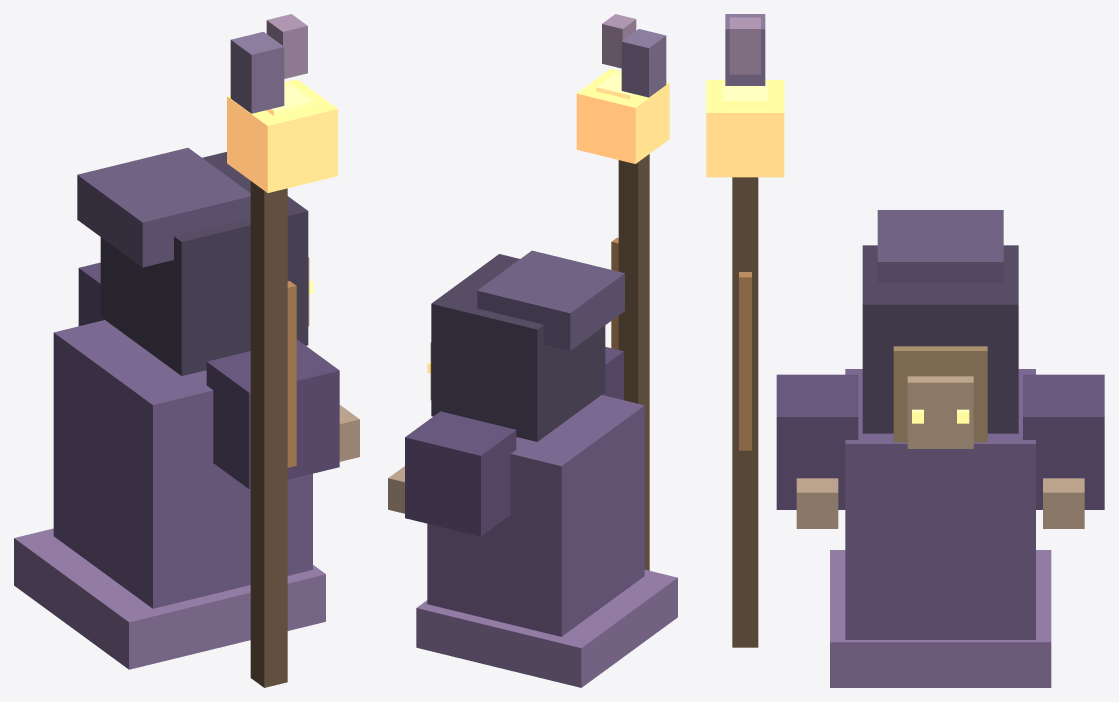
The model's file is hexer.glb.
The picture shows the model from 3 angles, left to right: view 1: azimuth 30°, elevation 25°; view 2: azimuth 150°, elevation 25°; view 3: azimuth 270°, elevation 25°; orthographic projection. The views are drawn at different scales.
Visible parts, largest first — view 1: Robe, Hood, Staff, Robe_Hem, Hood_Top, Sleeves, Ember, Smoke, Staff_Crack, Hands; view 2: Robe, Hood, Robe_Hem, Sleeves, Hood_Top, Staff, Ember, Smoke, Hands, Staff_Crack; view 3: Robe, Sleeves, Hood, Robe_Hem, Staff, Hood_Top, Ember, Hood_Lining, Face, Hands, Smoke, Staff_Crack.
Part boxes in pixels (x1=…): Robe: x1=53, y1=320, x2=312, y2=608; Hood: x1=100, y1=152, x2=308, y2=375; Staff: x1=250, y1=181, x2=287, y2=687; Robe_Hem: x1=14, y1=528, x2=325, y2=669; Hood_Top: x1=77, y1=147, x2=250, y2=267; Sleeves: x1=78, y1=262, x2=339, y2=489; Ember: x1=227, y1=79, x2=337, y2=192; Smoke: x1=230, y1=14, x2=307, y2=113; Staff_Crack: x1=287, y1=281, x2=296, y2=467; Hands: x1=339, y1=405, x2=359, y2=461; Robe: x1=427, y1=395, x2=644, y2=636; Hood: x1=431, y1=254, x2=605, y2=441; Robe_Hem: x1=416, y1=569, x2=677, y2=687; Sleeves: x1=405, y1=347, x2=623, y2=536; Hood_Top: x1=477, y1=250, x2=624, y2=350; Staff: x1=618, y1=154, x2=649, y2=570; Ember: x1=576, y1=68, x2=669, y2=163; Smoke: x1=602, y1=14, x2=666, y2=97; Hands: x1=388, y1=466, x2=404, y2=513; Staff_Crack: x1=611, y1=237, x2=618, y2=349; Robe: x1=845, y1=369, x2=1035, y2=639; Sleeves: x1=776, y1=374, x2=1104, y2=509; Hood: x1=862, y1=245, x2=1018, y2=433; Robe_Hem: x1=830, y1=550, x2=1051, y2=687; Staff: x1=732, y1=177, x2=758, y2=647; Hood_Top: x1=877, y1=210, x2=1003, y2=282; Ember: x1=706, y1=80, x2=784, y2=177; Hood_Lining: x1=893, y1=346, x2=987, y2=442; Face: x1=907, y1=376, x2=973, y2=448; Hands: x1=796, y1=478, x2=1084, y2=528; Smoke: x1=725, y1=14, x2=765, y2=85; Staff_Crack: x1=739, y1=272, x2=751, y2=450.
Bounding box in the file's own units: 2.9 × 7.98 × 4.59.
